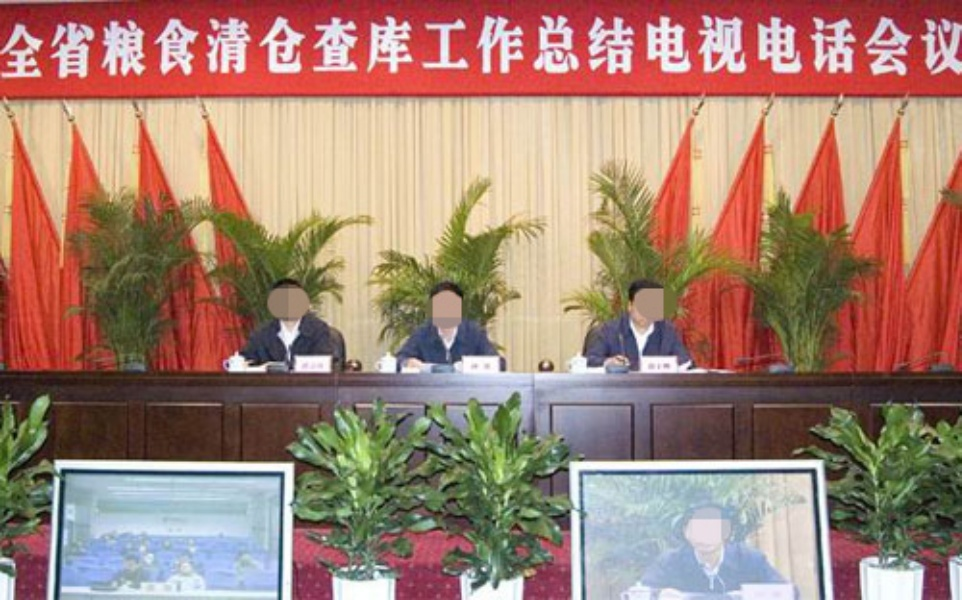text: (945, 14, 961, 85), (17, 14, 32, 85), (33, 14, 48, 85), (49, 14, 64, 85), (65, 14, 80, 85), (81, 14, 96, 85), (97, 14, 112, 85), (113, 14, 128, 85), (129, 14, 144, 85), (145, 14, 160, 85), (161, 14, 176, 85), (177, 14, 192, 85), (193, 14, 208, 85), (209, 14, 224, 85), (225, 14, 240, 85), (241, 14, 256, 85), (257, 14, 272, 85), (273, 14, 288, 85), (289, 14, 304, 85), (305, 14, 320, 85), (321, 14, 336, 85), (337, 14, 352, 85), (353, 14, 368, 85), (369, 14, 384, 85), (385, 14, 400, 85), (401, 14, 416, 85), (417, 14, 432, 85), (433, 14, 448, 85), (449, 14, 464, 85), (465, 14, 480, 85), (481, 14, 496, 85), (497, 14, 512, 85), (513, 14, 528, 85), (529, 14, 544, 85), (545, 14, 560, 85), (561, 14, 576, 85), (577, 14, 592, 85), (593, 14, 608, 85), (609, 14, 624, 85), (625, 14, 640, 85), (641, 14, 656, 85), (657, 14, 672, 85), (673, 14, 688, 85), (689, 14, 704, 85), (705, 14, 720, 85), (721, 14, 736, 85), (737, 14, 752, 85), (753, 14, 768, 85), (769, 14, 784, 85), (785, 14, 800, 85), (801, 14, 816, 85), (817, 14, 832, 85), (833, 14, 848, 85), (849, 14, 864, 85), (865, 14, 880, 85), (881, 14, 896, 85), (897, 14, 912, 85), (913, 14, 928, 85), (929, 14, 944, 85), (2, 14, 16, 85), (305, 362, 320, 370), (657, 362, 672, 370), (481, 362, 493, 370), (472, 362, 480, 370), (649, 362, 656, 370), (321, 362, 324, 370), (303, 362, 304, 370)
